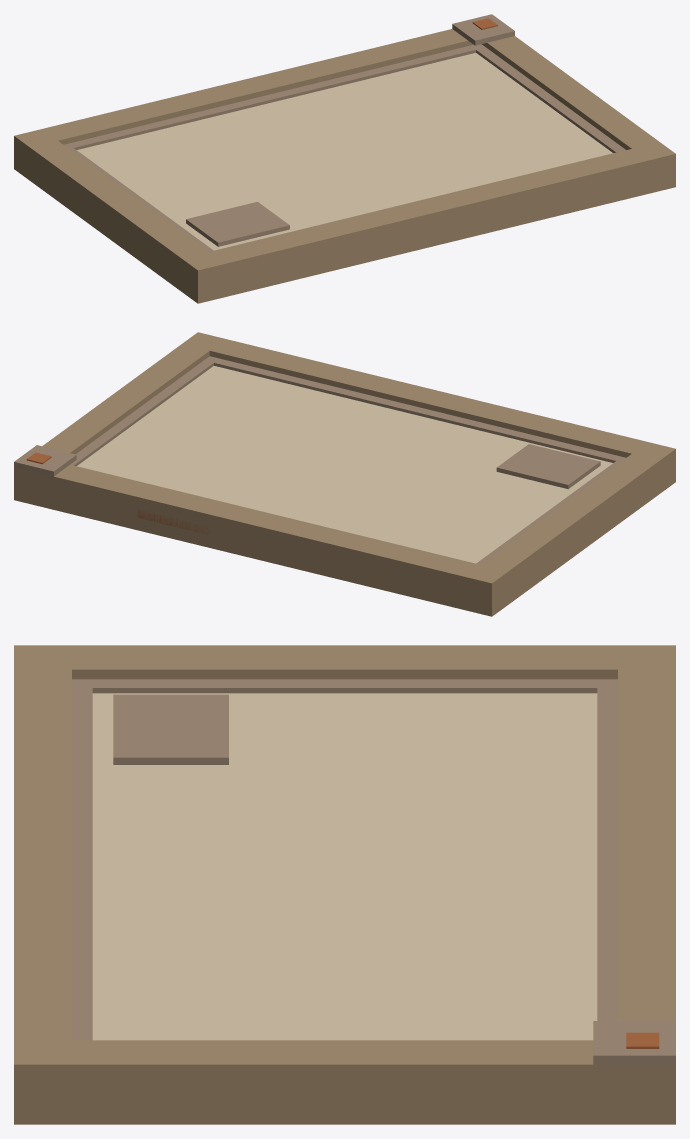
Rendered from access_card_saltflat.glb.
3 views of the same model, one above another, from view 1: azimuth 30°, elevation 25°; view 2: azimuth 150°, elevation 25°; view 3: azimuth 270°, elevation 25° (orthographic). The views are drawn at different scales.
Visible parts, largest first — view 1: Card_Body; view 2: Card_Body; view 3: Card_Body.
Boxes of the visible parts, <box> form: Card_Body: <box>14,14,675,303</box>; Card_Body: <box>14,332,675,616</box>; Card_Body: <box>14,645,675,1124</box>.
Bounding box in the file's own units: 0.12 × 0.0095 × 0.08.
